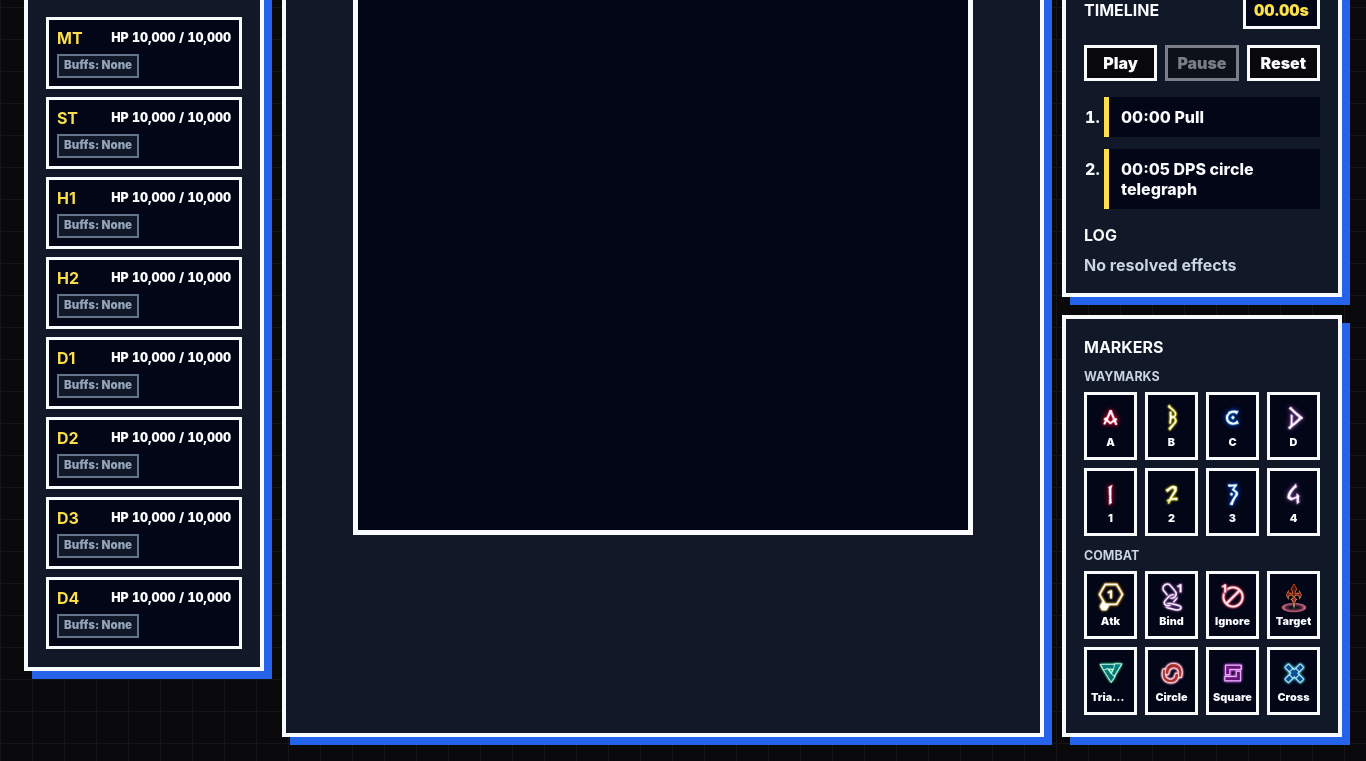
Test: App › places the selected tray marker on the arena
The image size is (1366, 761).
(page scrolled)
Click the button "A" at (1110,426), box [1084,392,1137,460]
(page scrolled)
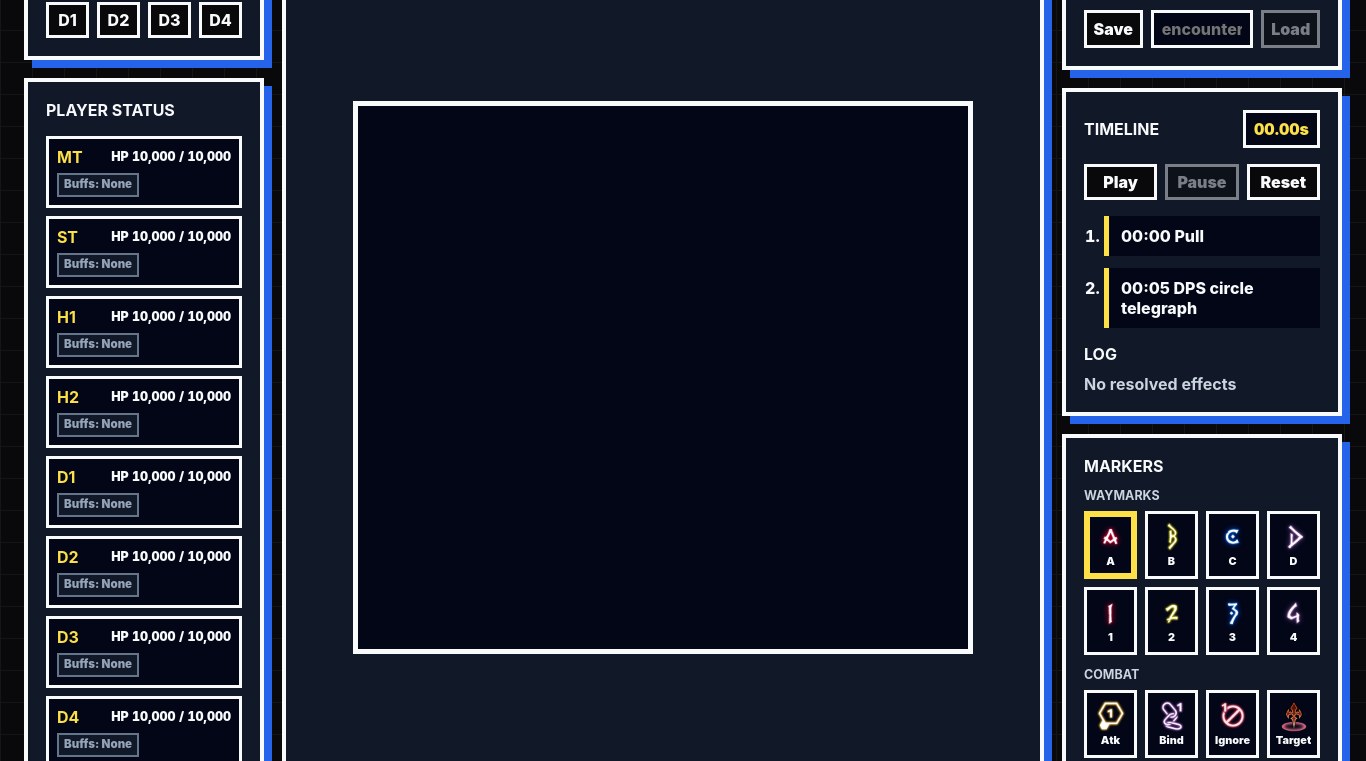
Expected: the button "A" is pressed, [1084,511,1137,579]
Click the drawing "Arena canvas" at (663,378), box [353,101,973,654]
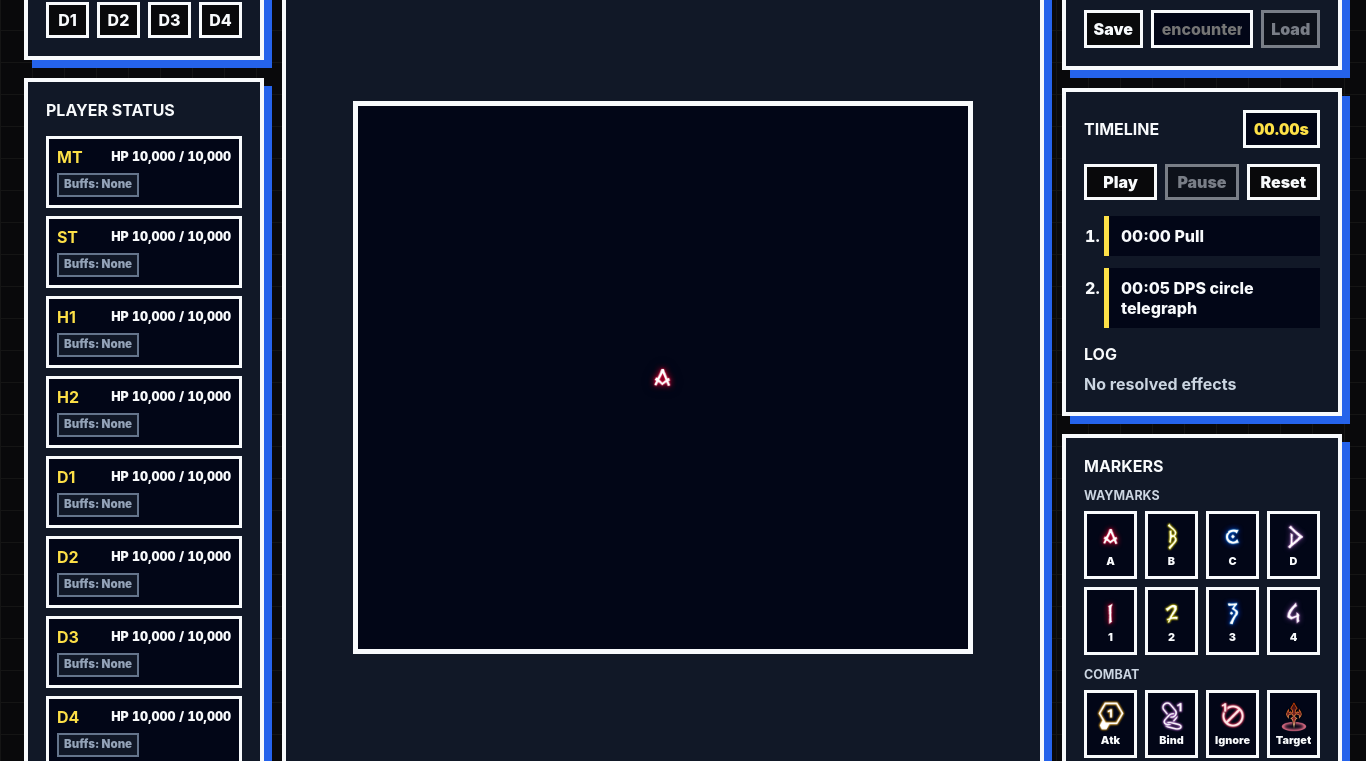
Expected: the picture named "Placed Waymark A" is shown, [645,360,681,396]
